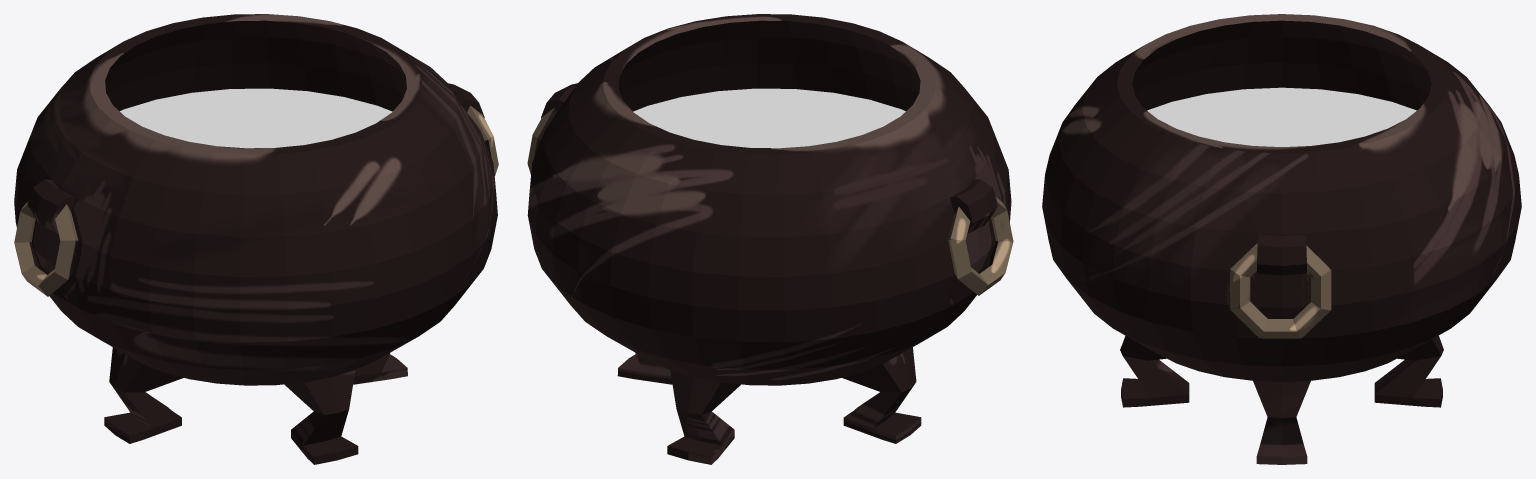
File: cauldron.fbx
3 views of the same model, side by side, from view 1: azimuth 30°, elevation 25°; view 2: azimuth 150°, elevation 25°; view 3: azimuth 270°, elevation 25° (orthographic).
Parts seen in each view (by area): view 1: Cylinder, Cylinder.001; view 2: Cylinder, Cylinder.001; view 3: Cylinder, Cylinder.001.
Part boxes in pixels (x1=…): Cylinder: x1=14, y1=14, x2=498, y2=464; Cylinder.001: x1=120, y1=88, x2=392, y2=148; Cylinder: x1=527, y1=14, x2=1013, y2=464; Cylinder.001: x1=633, y1=88, x2=905, y2=148; Cylinder: x1=1042, y1=14, x2=1521, y2=464; Cylinder.001: x1=1147, y1=87, x2=1416, y2=146.
Size of the model in its own units: 194 by 130 by 180.
